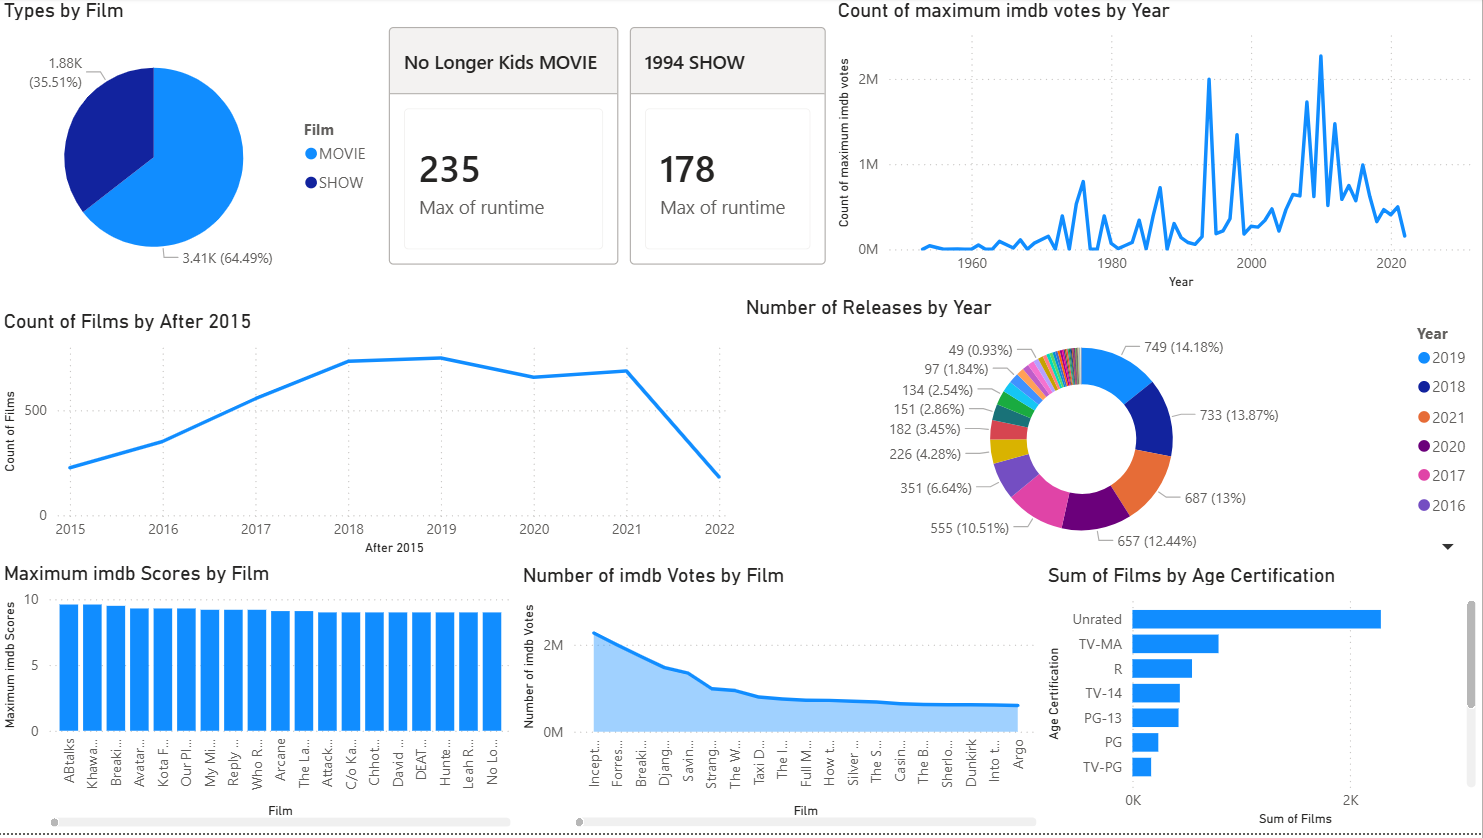

The dashboard page shown, as its layout file describes it:
{"tool":"powerbi","page":{"name":"Page 1","canvas":[1280,720],"ordinal":0},"visuals":[{"type":"pieChart","fields":{"Y":["CountNonNull(cleaned_netflix_data.type)"],"Category":["cleaned_netflix_data.type"]},"box":[0,0,331.7,255.8],"z":0},{"type":"cardVisual","fields":{"Data":["Max(cleaned_netflix_data.runtime)"],"Rows":["cleaned_netflix_data.title","cleaned_netflix_data.type"]},"box":[331.7,0,208.1,255.8],"z":1000},{"type":"cardVisual","fields":{"Data":["Max(cleaned_netflix_data.runtime)"],"Rows":["cleaned_netflix_data.title","cleaned_netflix_data.type"]},"box":[539.8,0,179.9,255.8],"z":2000},{"type":"lineChart","fields":{"Category":["cleaned_netflix_data.release_year"],"Y":["Max(cleaned_netflix_data.imdb_votes)"]},"box":[719.8,0,560.2,255.8],"z":3000},{"type":"lineChart","fields":{"Category":["cleaned_netflix_data.release_year"],"Y":["CountNonNull(cleaned_netflix_data.type)"]},"box":[0,268.4,640,216.9],"z":4000},{"type":"donutChart","fields":{"Category":["cleaned_netflix_data.release_year"],"Y":["CountNonNull(cleaned_netflix_data.type)"]},"box":[640,255.8,640,229.5],"z":5000},{"type":"columnChart","fields":{"Category":["cleaned_netflix_data.title"],"Y":["Max(cleaned_netflix_data.imdb_score)"]},"box":[0,485.3,447.4,234.4],"z":6000},{"type":"areaChart","fields":{"Category":["cleaned_netflix_data.title"],"Y":["Sum(cleaned_netflix_data.imdb_votes)"]},"box":[447.4,487.3,453.3,232.5],"z":7000},{"type":"barChart","fields":{"Category":["cleaned_netflix_data.age_certification"],"Y":["CountNonNull(cleaned_netflix_data.type)"]},"box":[900.7,487.3,379.3,231.5],"z":8000}]}

Visuals, with their boxes in screenshot pixels (x1, y1, x2, y2), scaled from the page's 1280x720 canvas onto the 1483x838 screenshot:
pieChart - CountNonNull(cleaned_netflix_data.type) x cleaned_netflix_data.type: l=0, t=0, r=384, b=298
cardVisual - Max(cleaned_netflix_data.runtime) x cleaned_netflix_data.title: l=384, t=0, r=625, b=298
cardVisual - Max(cleaned_netflix_data.runtime) x cleaned_netflix_data.title: l=625, t=0, r=834, b=298
lineChart - cleaned_netflix_data.release_year x Max(cleaned_netflix_data.imdb_votes): l=834, t=0, r=1482, b=298
lineChart - cleaned_netflix_data.release_year x CountNonNull(cleaned_netflix_data.type): l=0, t=312, r=742, b=565
donutChart - cleaned_netflix_data.release_year x CountNonNull(cleaned_netflix_data.type): l=742, t=298, r=1482, b=565
columnChart - cleaned_netflix_data.title x Max(cleaned_netflix_data.imdb_score): l=0, t=565, r=518, b=837
areaChart - cleaned_netflix_data.title x Sum(cleaned_netflix_data.imdb_votes): l=518, t=567, r=1044, b=837
barChart - cleaned_netflix_data.age_certification x CountNonNull(cleaned_netflix_data.type): l=1044, t=567, r=1482, b=837
